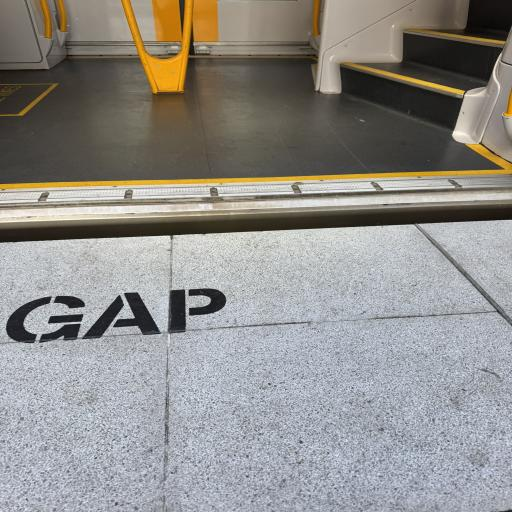gap: (0, 202, 512, 242)
